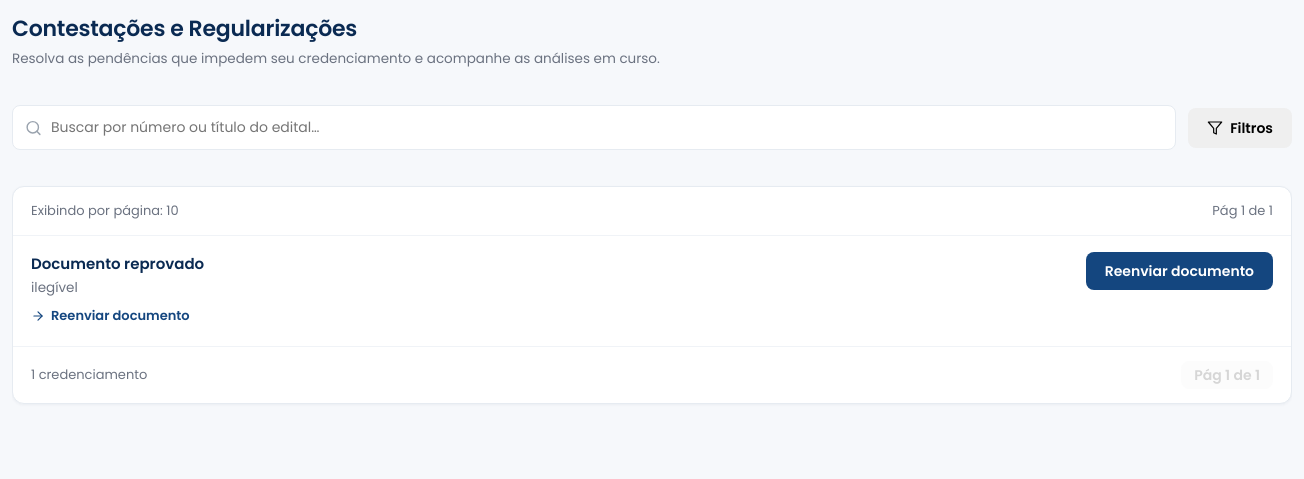
Test: Contestacao — Tela Única de Contestação/Regularização (UC016) › reenviar documento delega ao módulo dono e dá feedback
Click the button with test id "acao-reenviar" at (1179, 271), box [1086,252,1273,290]
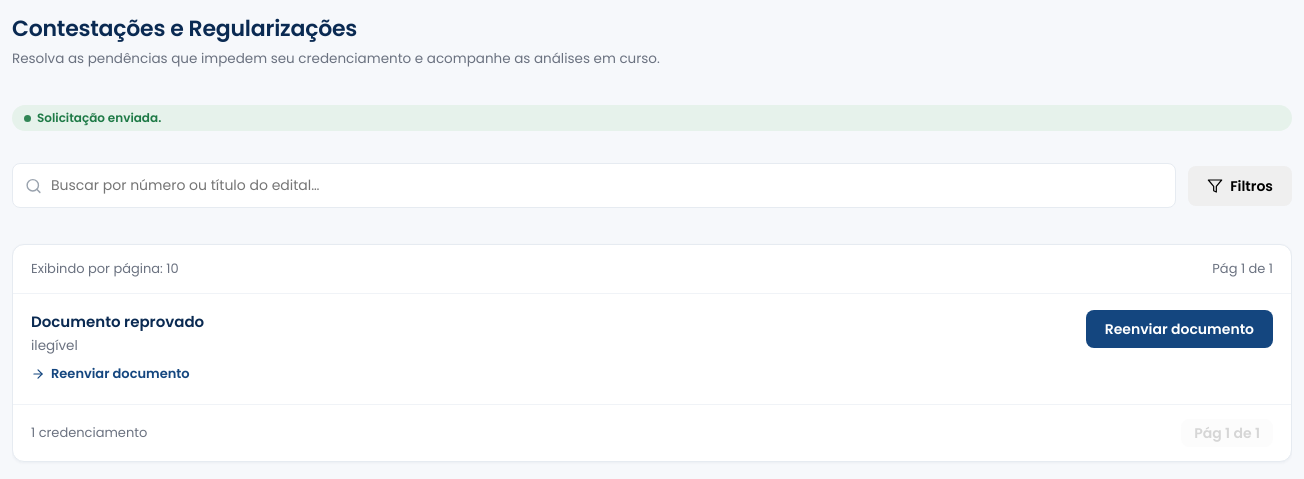
Check: the message "Solicitação enviada." is shown, box [12,105,1292,131]
